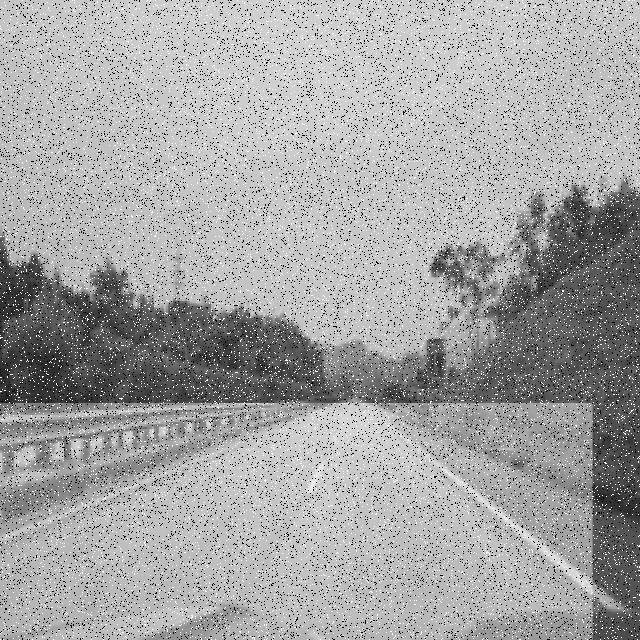clear-road: (0, 404, 593, 640)
